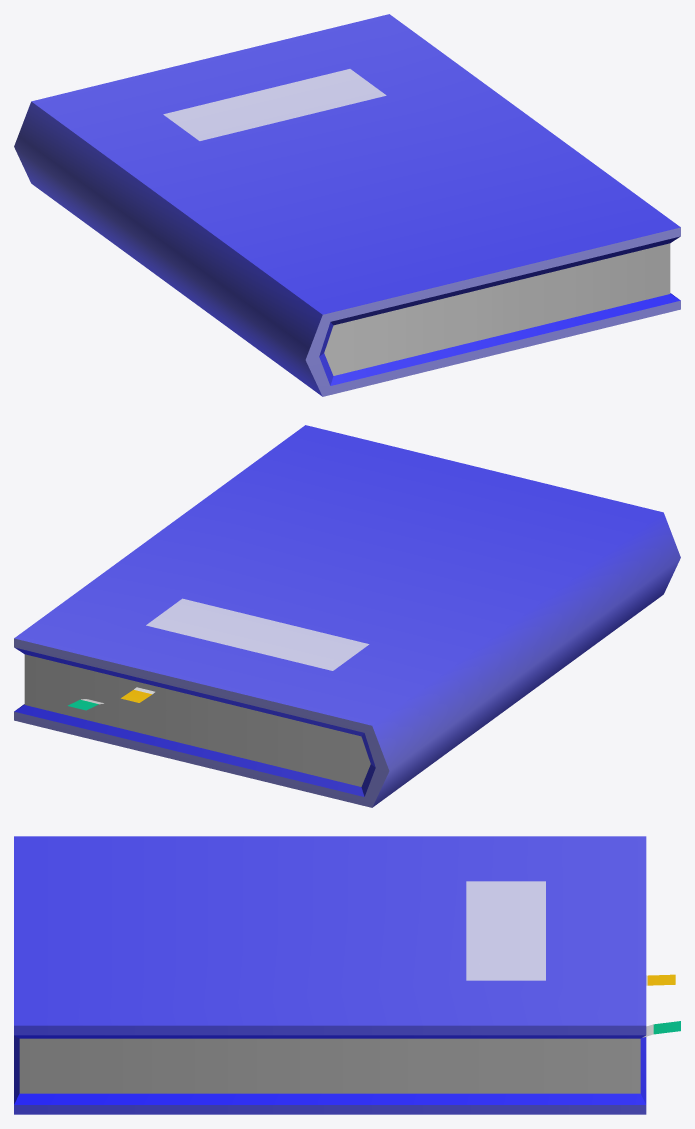
The model's file is CR_Book_002.FBX.
3 views of the same model, one above another, from view 1: azimuth 30°, elevation 25°; view 2: azimuth 150°, elevation 25°; view 3: azimuth 270°, elevation 25° (orthographic). The views are drawn at different scales.
Visible parts, largest first — view 1: CR_Book_002; view 2: CR_Book_002; view 3: CR_Book_002.
Part boxes in pixels (x1,y1,x2,y2): CR_Book_002: (14,14,680,396); CR_Book_002: (14,425,680,807); CR_Book_002: (14,836,680,1114).
Size of the model in its own units: 13.06 by 2.73 by 18.53.
1 material, 1 textured.
